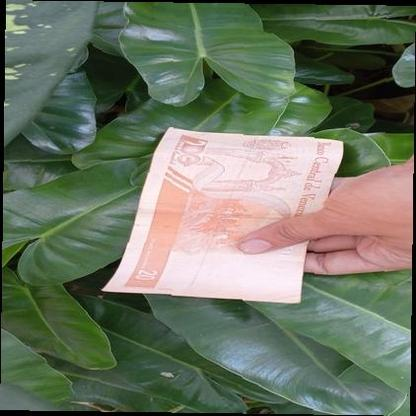twenty-back-vef: (102, 127, 344, 304)
